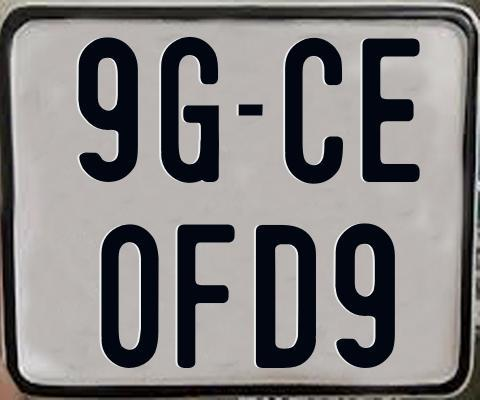0: (100, 221, 161, 365)
9: (335, 221, 396, 368), (78, 37, 138, 183)
C: (282, 35, 340, 187)
D: (254, 225, 320, 374)
E: (359, 37, 419, 181)
F: (174, 223, 236, 370)
G: (160, 36, 219, 188)
